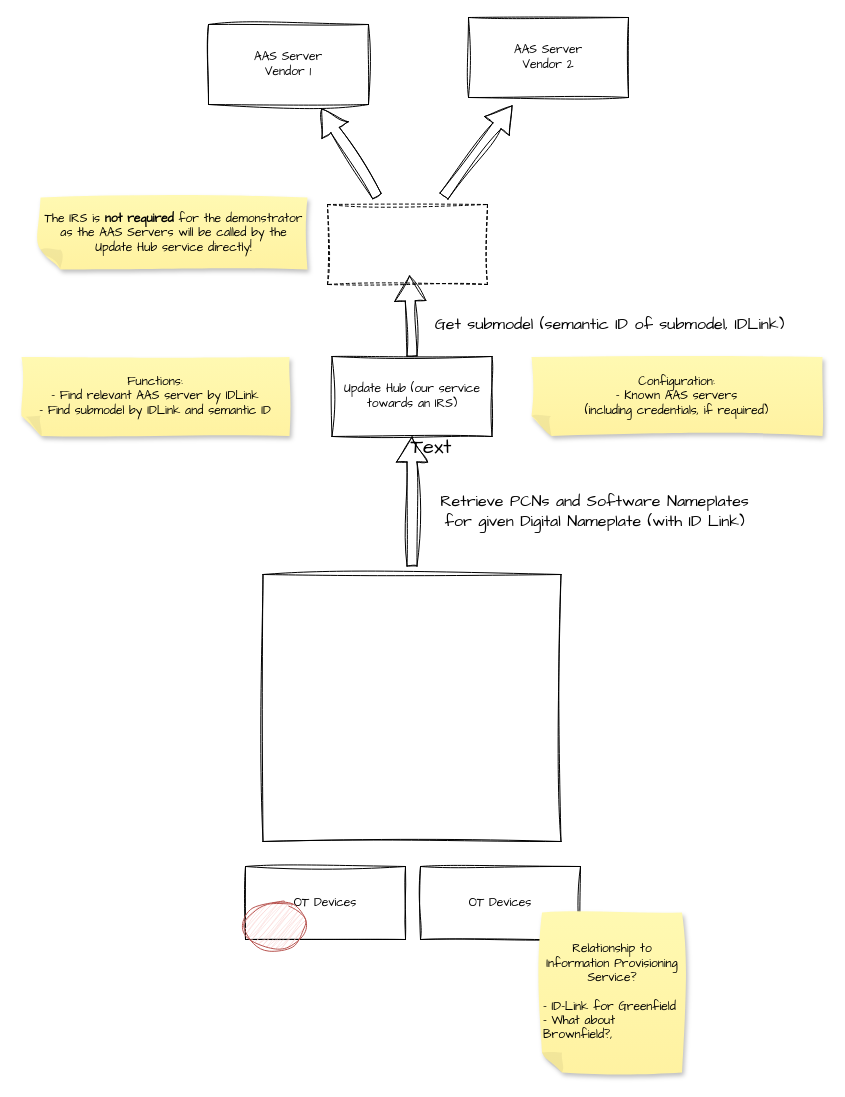
Image size: 845x1097. Some labels were removed from this diagram. The shapes that lost their labels are listed below. From the top down, each one's centre as x and y in pixels, then its label:
(407,244): Information Request-Provisioning Service (IRS)
(411,708): Common Device Management
(275,925): IDLink
